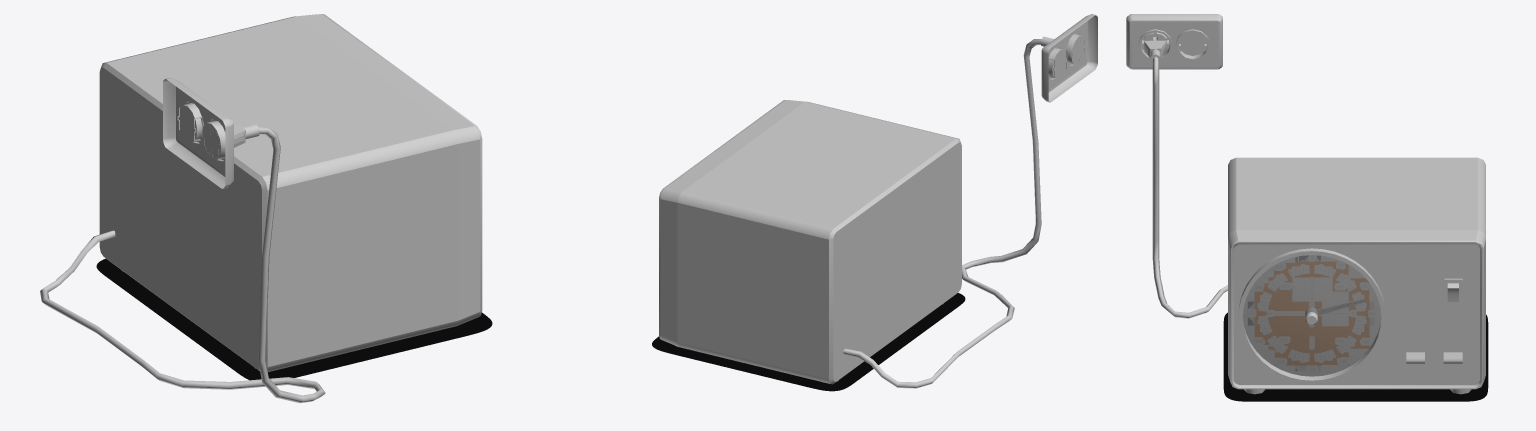
Rendered from antenna_controller.fbx.
3 views of the same model, side by side, from view 1: azimuth 30°, elevation 25°; view 2: azimuth 150°, elevation 25°; view 3: azimuth 270°, elevation 25° (orthographic). The views are drawn at different scales.
Visible parts, largest first — view 1: controller, net_cable, controller_shadow; view 2: controller, net_cable, controller_shadow; view 3: controller, glass, dial_glow, net_cable, controller_shadow.
Part boxes in pixels (box(x1,y1,x2,y2)): controller: box(99, 14, 482, 371); net_cable: box(40, 77, 325, 403); controller_shadow: box(96, 258, 492, 380); controller: box(659, 100, 961, 384); net_cable: box(843, 14, 1097, 388); controller_shadow: box(652, 293, 965, 391); controller: box(1228, 157, 1485, 394); glass: box(1243, 255, 1380, 376); dial_glow: box(1243, 255, 1380, 375); net_cable: box(1126, 14, 1227, 318); controller_shadow: box(1223, 312, 1488, 401).
Size of the model in its own units: 46.11 by 38.83 by 53.52.
